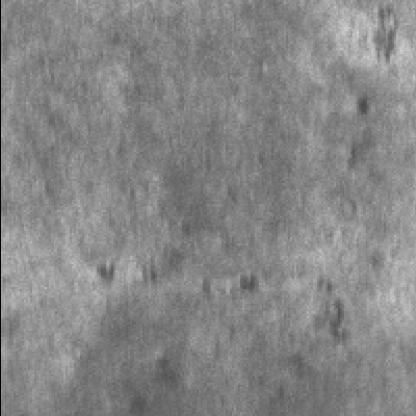rolled-in_scale: (300, 10, 402, 358), (86, 246, 260, 322)
